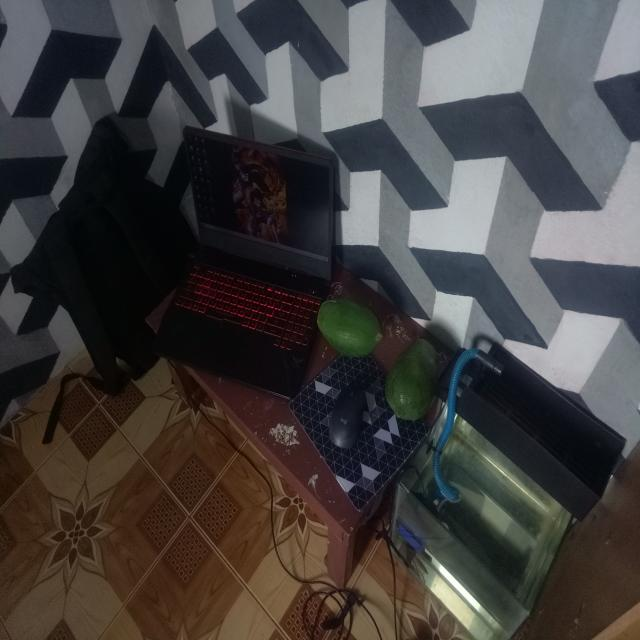Pepaya unrippen: (313, 291, 388, 368), (383, 342, 441, 433)
